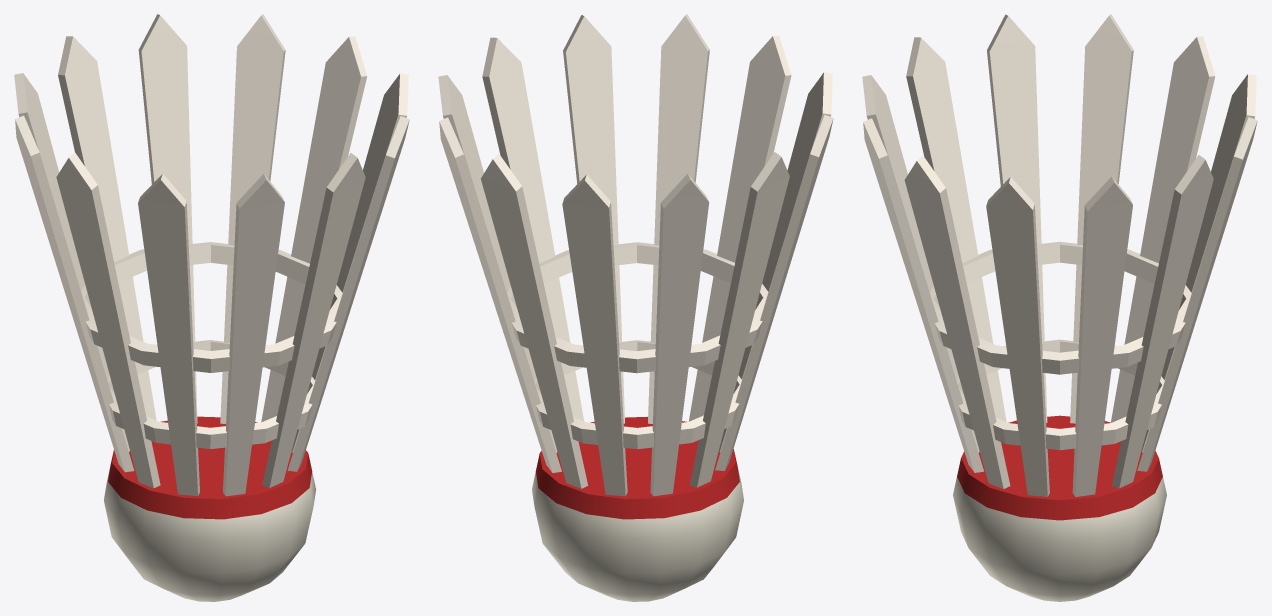
File: shuttlecock.fbx
The picture shows the model from 3 angles, left to right: view 1: azimuth 30°, elevation 25°; view 2: azimuth 150°, elevation 25°; view 3: azimuth 270°, elevation 25°; orthographic projection.
Parts seen in each view (by area): view 1: shuttlecock; view 2: shuttlecock; view 3: shuttlecock.
Boxes of the visible parts, box(x1,y1,x2,y2) form: shuttlecock: box(14, 14, 409, 601); shuttlecock: box(438, 14, 833, 601); shuttlecock: box(862, 14, 1257, 601).
Bounding box in the file's own units: 11.24 × 15.61 × 11.24.
